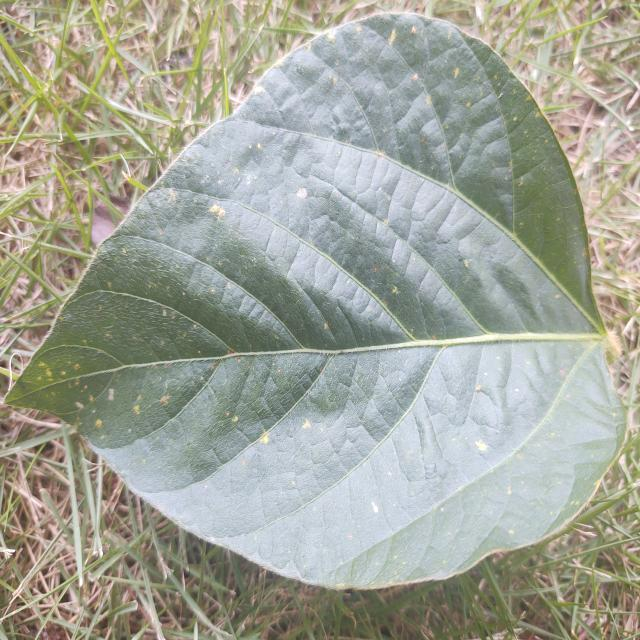Soybean: (7, 12, 625, 593)
downey_mildew: (8, 212, 337, 417), (78, 331, 350, 496), (308, 346, 451, 559), (499, 106, 605, 320), (290, 160, 414, 335), (291, 16, 409, 193), (417, 23, 511, 203), (466, 418, 584, 559), (60, 355, 227, 448), (74, 285, 233, 372), (445, 207, 550, 334), (538, 354, 625, 494), (345, 498, 465, 587), (435, 443, 519, 570), (221, 256, 318, 354), (5, 344, 125, 417), (235, 347, 329, 438), (459, 423, 530, 502), (504, 344, 565, 430), (504, 105, 561, 184), (454, 136, 512, 212), (510, 157, 575, 224), (443, 85, 505, 155), (433, 344, 482, 426), (488, 65, 538, 145), (270, 172, 330, 229), (311, 350, 359, 416), (470, 386, 506, 437)
